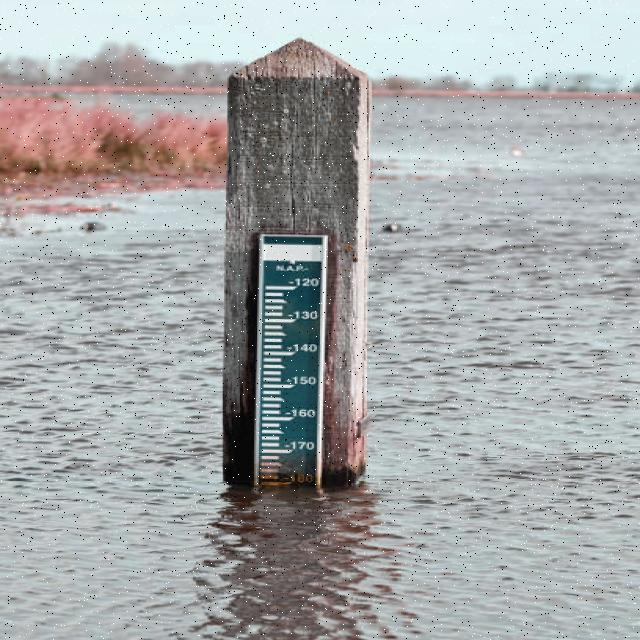staff: (260, 263, 335, 502)
